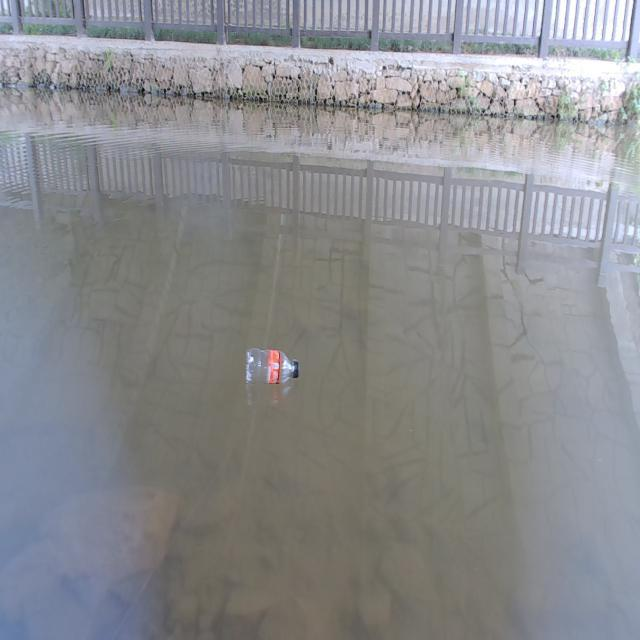garbage: (245, 346, 299, 384)
